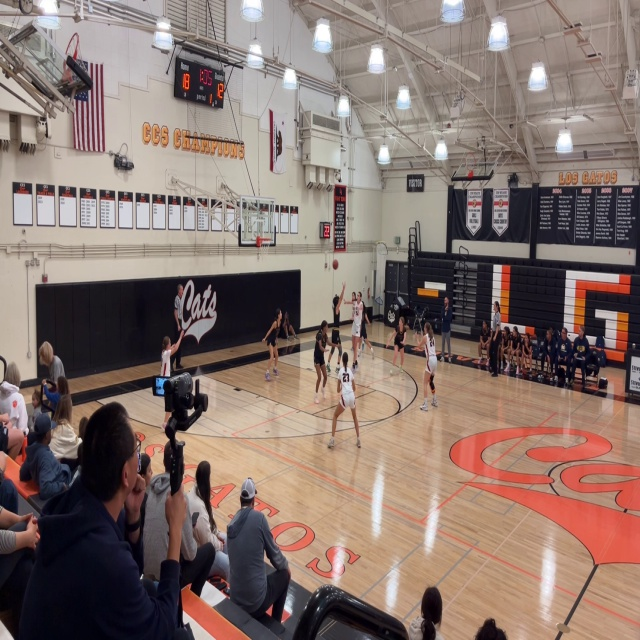Basketball: (332, 259, 339, 269)
